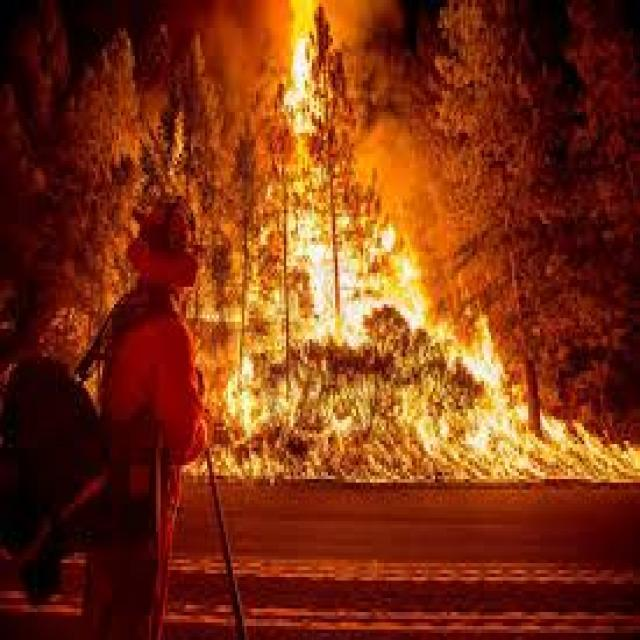Fire: (4, 0, 640, 482)
